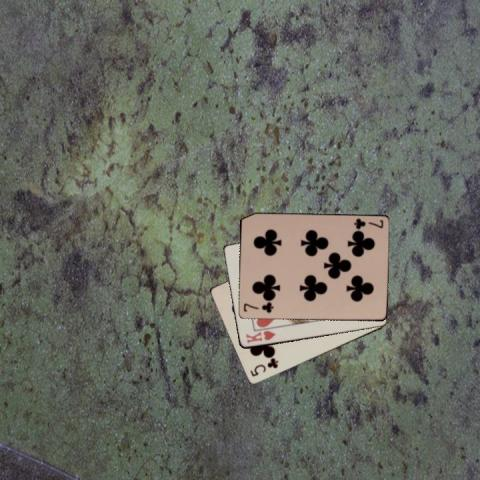5c: (247, 356, 279, 378)
7c: (351, 216, 384, 231), (241, 300, 274, 314)
Kh: (243, 328, 276, 345)
